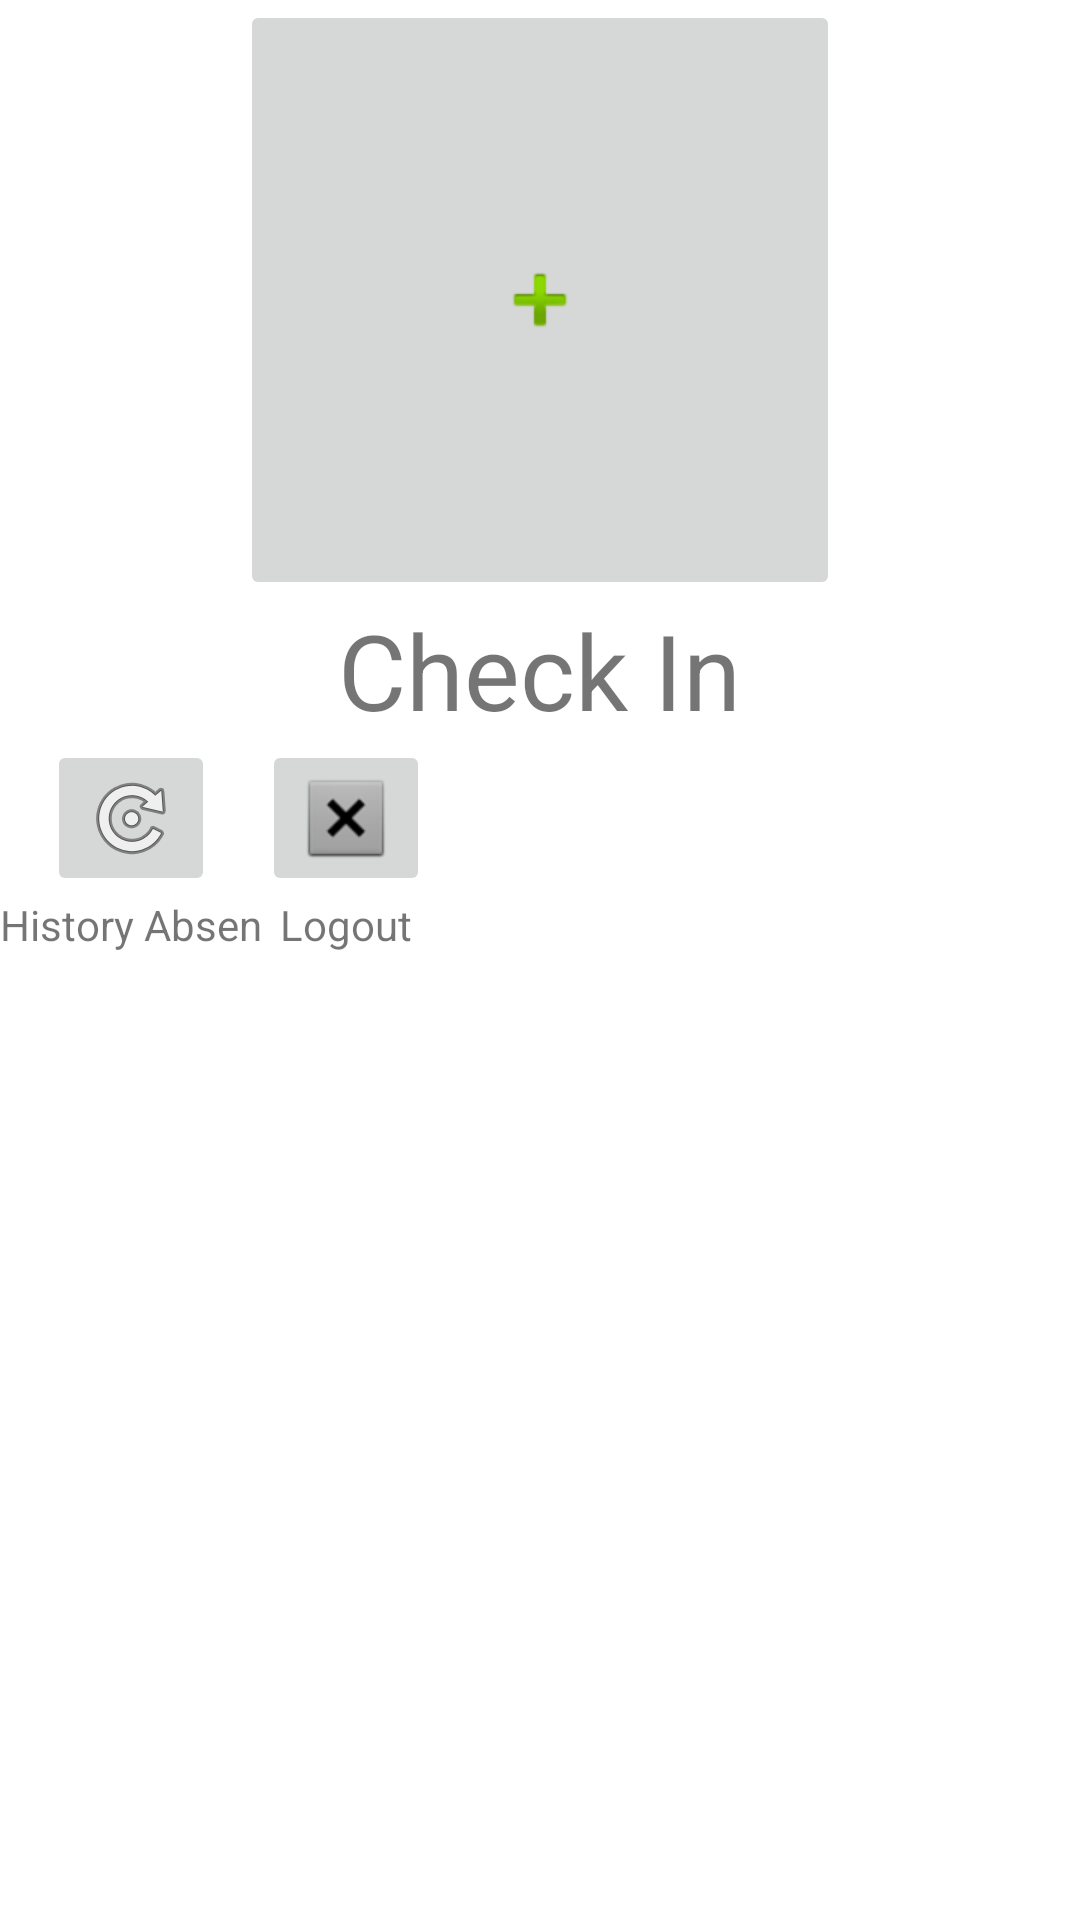

Named icons in this screenshot (1080x1920) and their bounding boxes, (x1, y1, x2, y2):
rotate: (59, 758, 203, 878)
